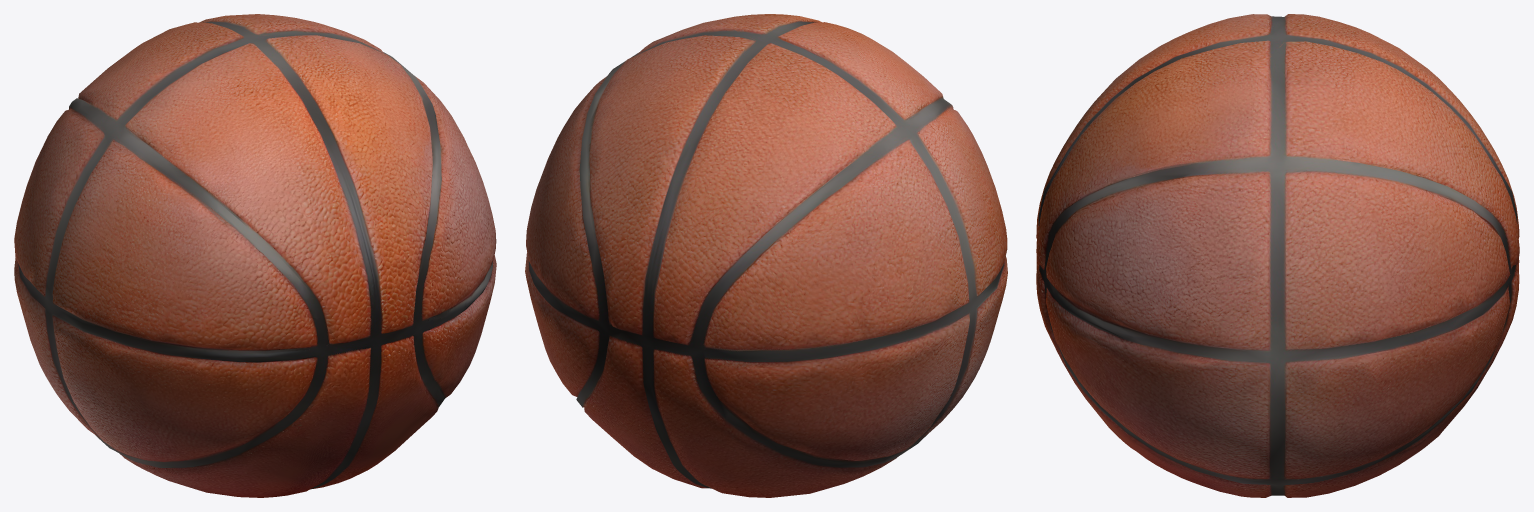
Rendered from ball-basketball.glb.
The picture shows the model from 3 angles, left to right: view 1: azimuth 30°, elevation 25°; view 2: azimuth 150°, elevation 25°; view 3: azimuth 270°, elevation 25°; orthographic projection.
Parts seen in each view (by area): view 1: tripo_node_bc11e0ef-02a8-4c70-a23f-4bfee6b07c26; view 2: tripo_node_bc11e0ef-02a8-4c70-a23f-4bfee6b07c26; view 3: tripo_node_bc11e0ef-02a8-4c70-a23f-4bfee6b07c26.
Part boxes in pixels (box(x1,y1,x2,y2)): tripo_node_bc11e0ef-02a8-4c70-a23f-4bfee6b07c26: box(14, 14, 496, 497); tripo_node_bc11e0ef-02a8-4c70-a23f-4bfee6b07c26: box(525, 14, 1007, 497); tripo_node_bc11e0ef-02a8-4c70-a23f-4bfee6b07c26: box(1036, 14, 1519, 497).
Bounding box in the file's own units: 0.9707 × 0.9734 × 0.9678.
Materials: 1 (1 with a texture image).
